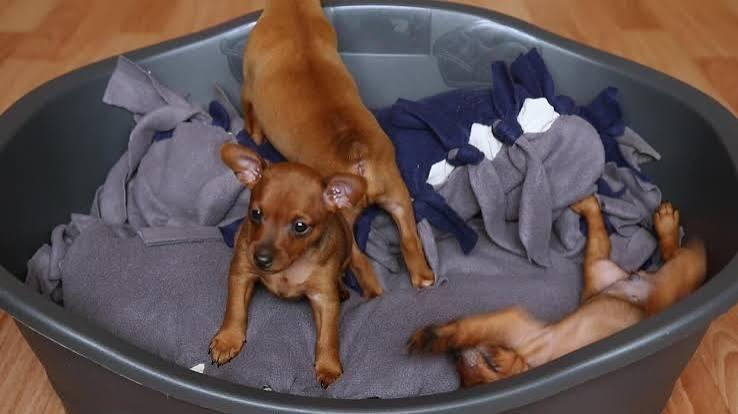adult_dog: (238, 0, 437, 288)
puppy-dog: (405, 191, 710, 389), (208, 139, 385, 390)
